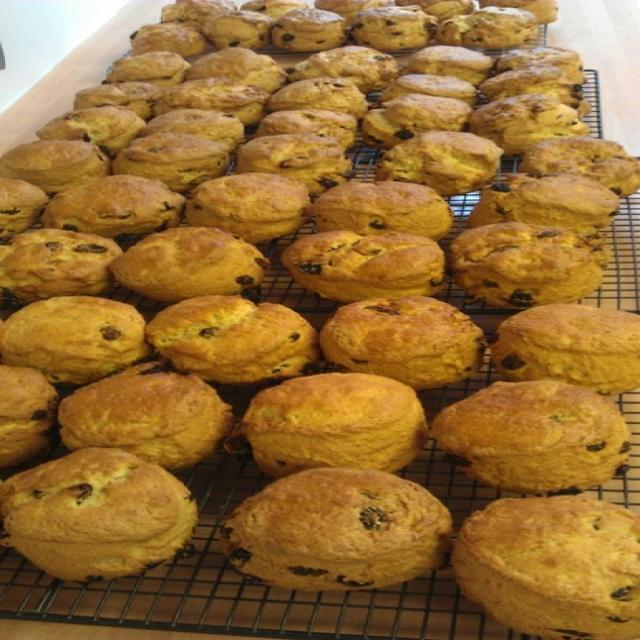面包点心: (7, 21, 633, 613)
